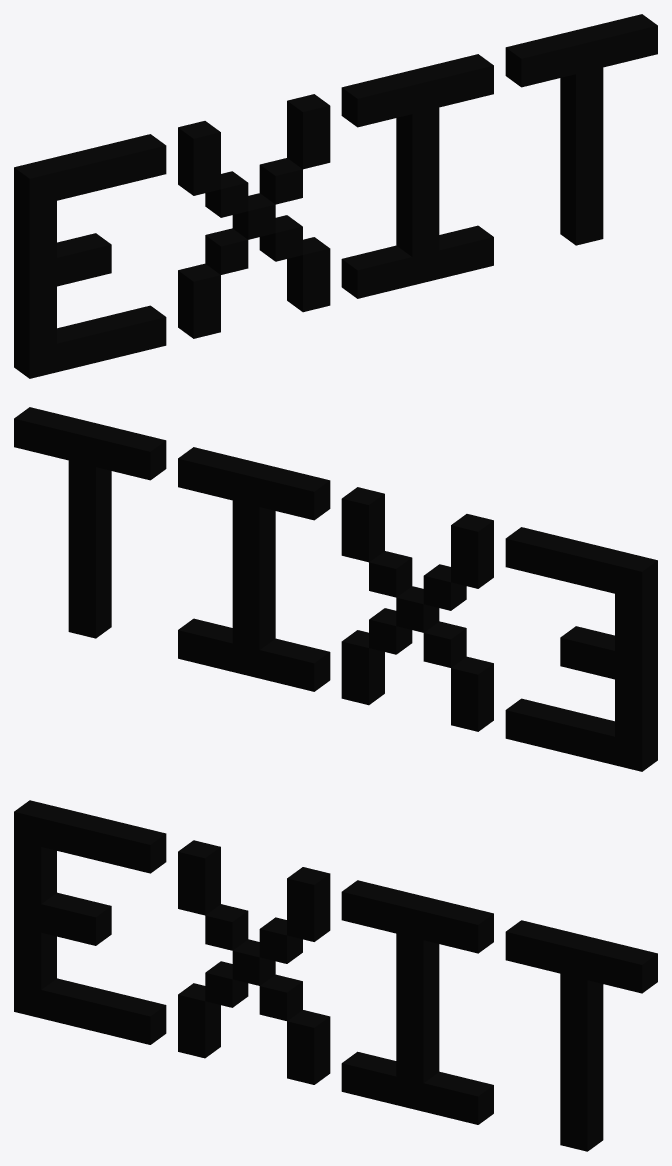
The model's file is exit_text.obj.
The picture shows the model from 3 angles, top to bottom: view 1: azimuth 30°, elevation 25°; view 2: azimuth 150°, elevation 25°; view 3: azimuth 330°, elevation 25°; orthographic projection.
Size of the model in its own units: 2.3 by 0.7 by 0.1.
Materials: 1 (1 with a texture image).
